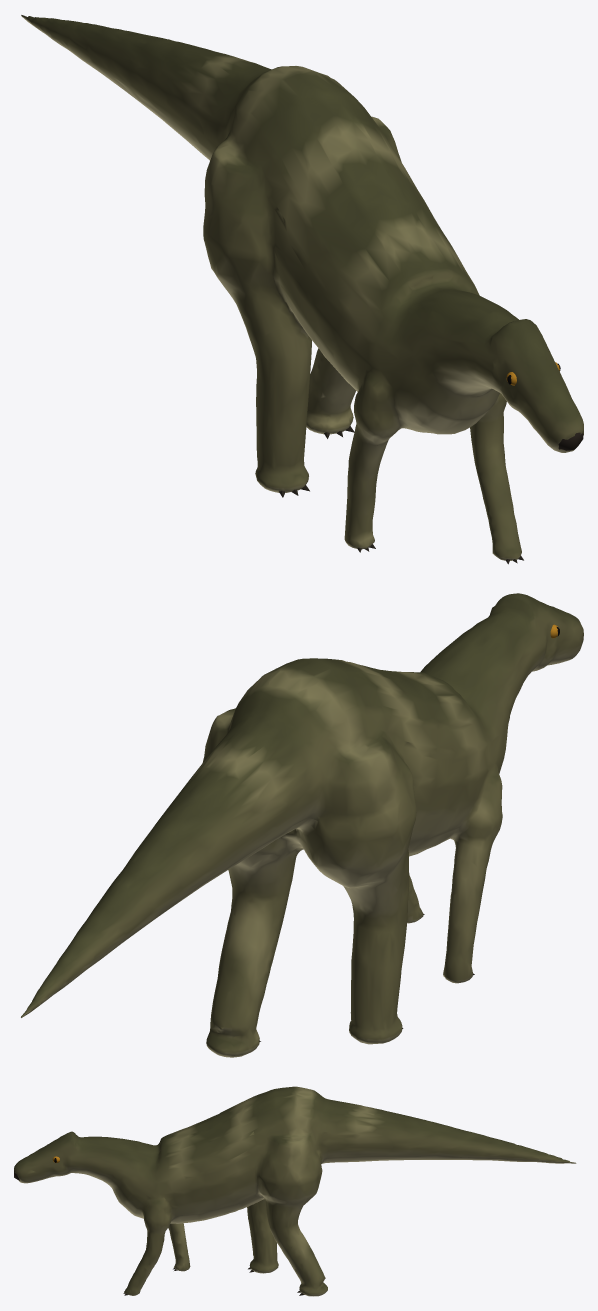
Rendered from Camptosaurus.fbx.
3 renders of one model, top to bottom at view 1: azimuth 30°, elevation 25°; view 2: azimuth 150°, elevation 25°; view 3: azimuth 270°, elevation 25°, orthographic. The views are drawn at different scales.
Parts seen in each view (by area): view 1: Camptosaurus; view 2: Camptosaurus; view 3: Camptosaurus.
Part boxes in pixels (x1,y1,x2,y2): Camptosaurus: [21, 15, 583, 564]; Camptosaurus: [21, 593, 583, 1057]; Camptosaurus: [14, 1086, 576, 1296].
Size of the model in its own units: 0.7297 by 1.37 by 3.67.
